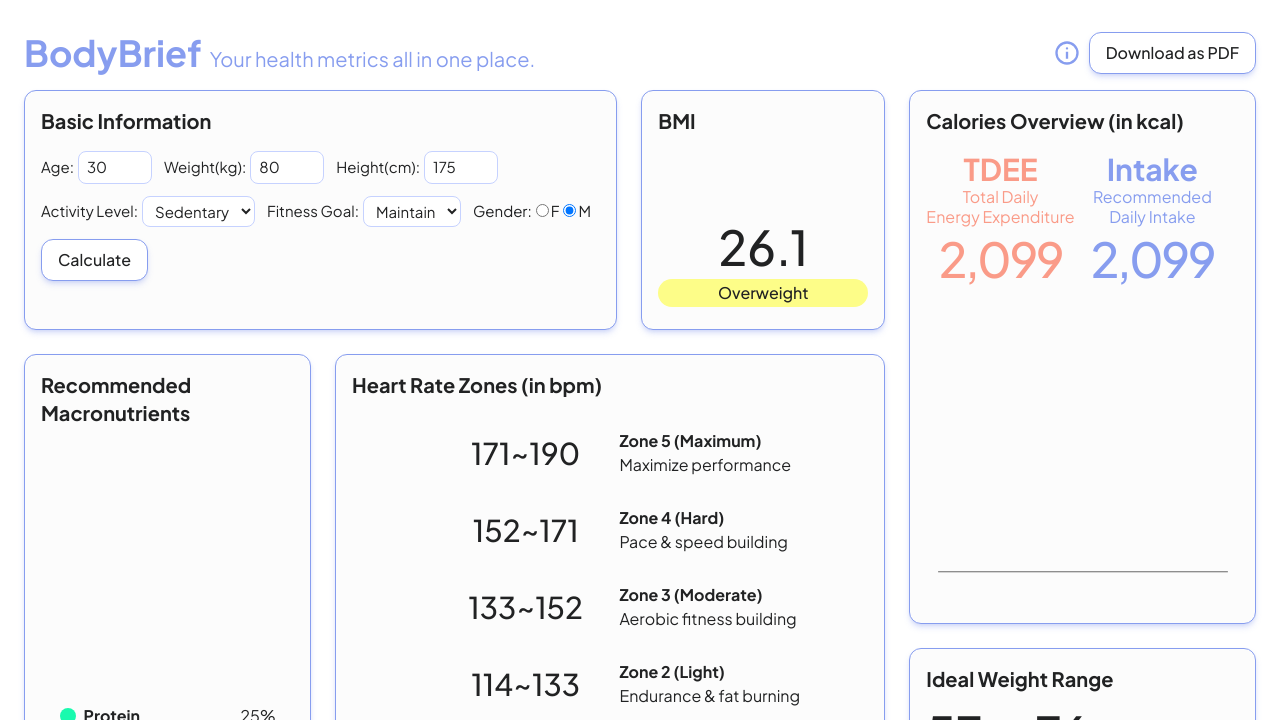
Test: user interactions with About Modal › closes the dialog when user clicks the cross icon
Click the button "about this project". click: (1067, 53)
box: top-left (1053, 39), bottom-right (1081, 67)
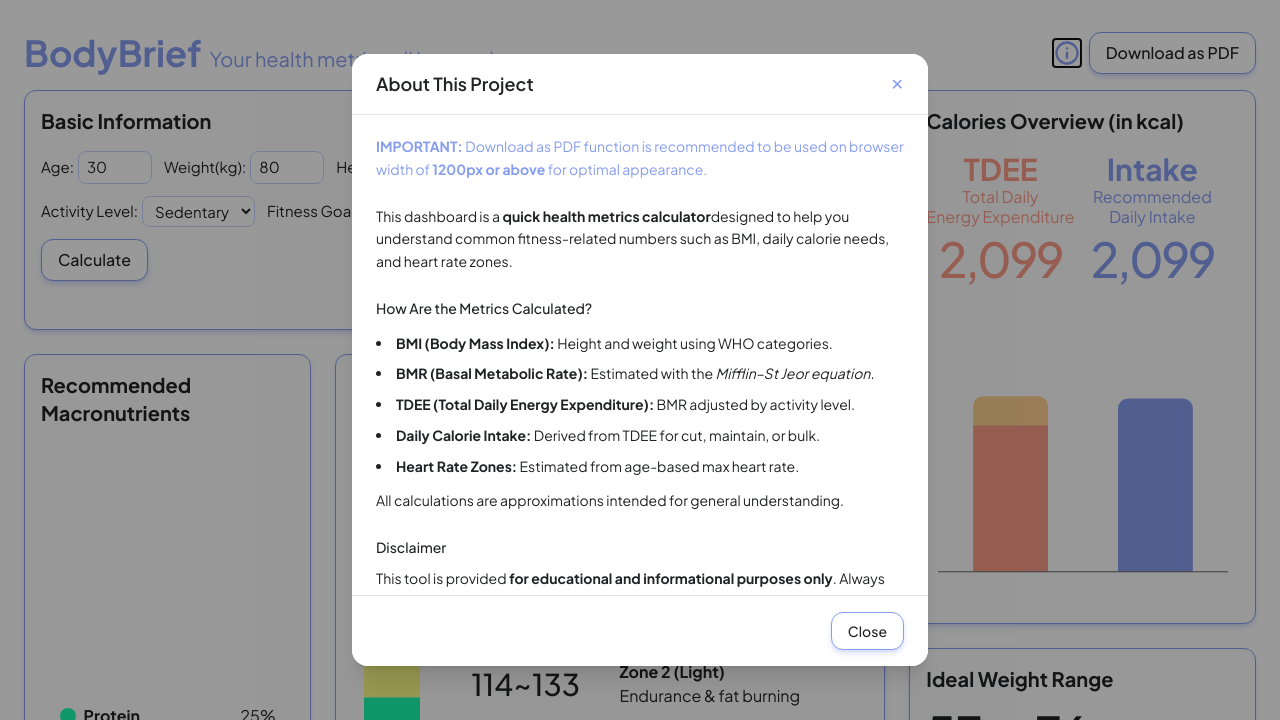
Now the dialog is shown, box top-left (352, 54), bottom-right (928, 666)
Click the button named "Close dialog". click: (897, 84)
box: top-left (891, 72), bottom-right (904, 96)
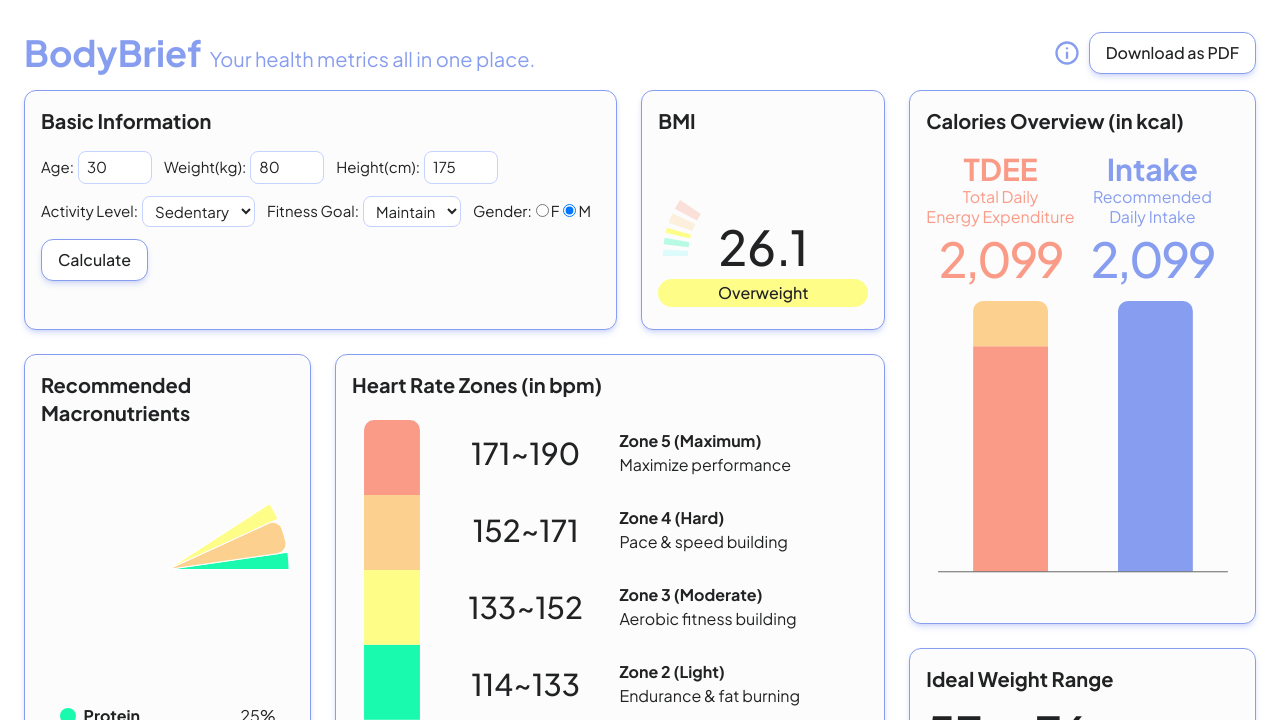
Now the dialog is gone
